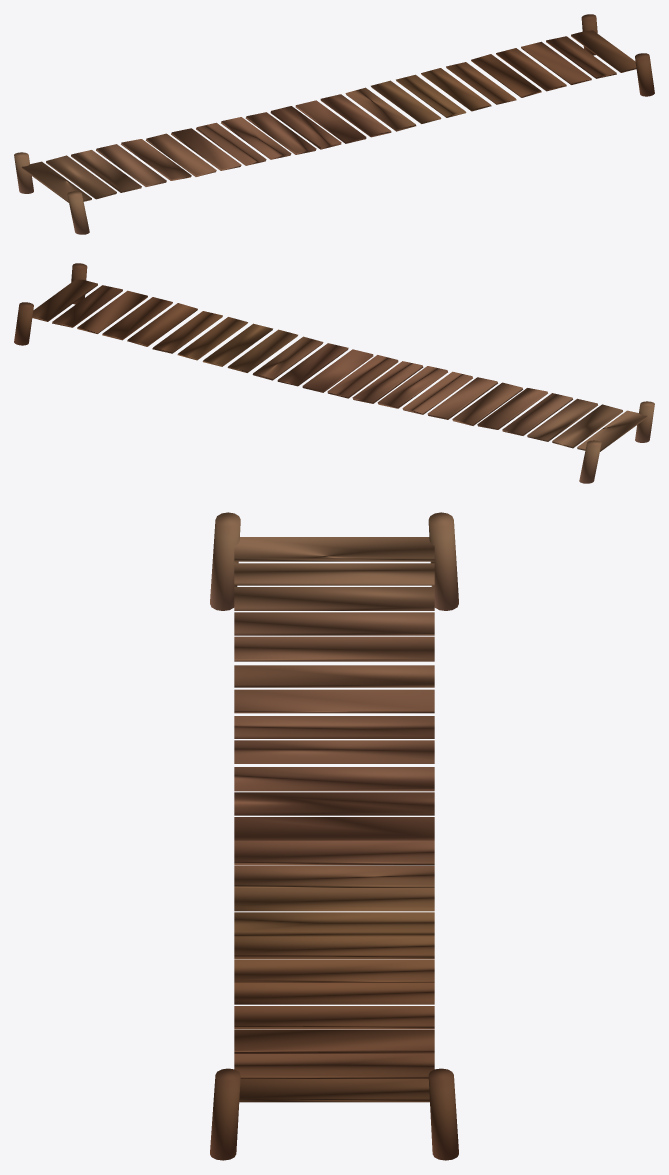
File: BeachBoardwalk.glb
3 views of the same model, one above another, from view 1: azimuth 30°, elevation 25°; view 2: azimuth 150°, elevation 25°; view 3: azimuth 270°, elevation 25° (orthographic). The views are drawn at different scales.
Parts seen in each view (by area): view 1: BeachBoardwalk; view 2: BeachBoardwalk; view 3: BeachBoardwalk.
Boxes of the visible parts, x1,y1,x2,y2 form: BeachBoardwalk: (14,14,654,234); BeachBoardwalk: (14,263,654,483); BeachBoardwalk: (210,512,458,1160).
Bounding box in the file's own units: 16 × 1.04 × 2.95.
Materials: 1 (1 with a texture image).
